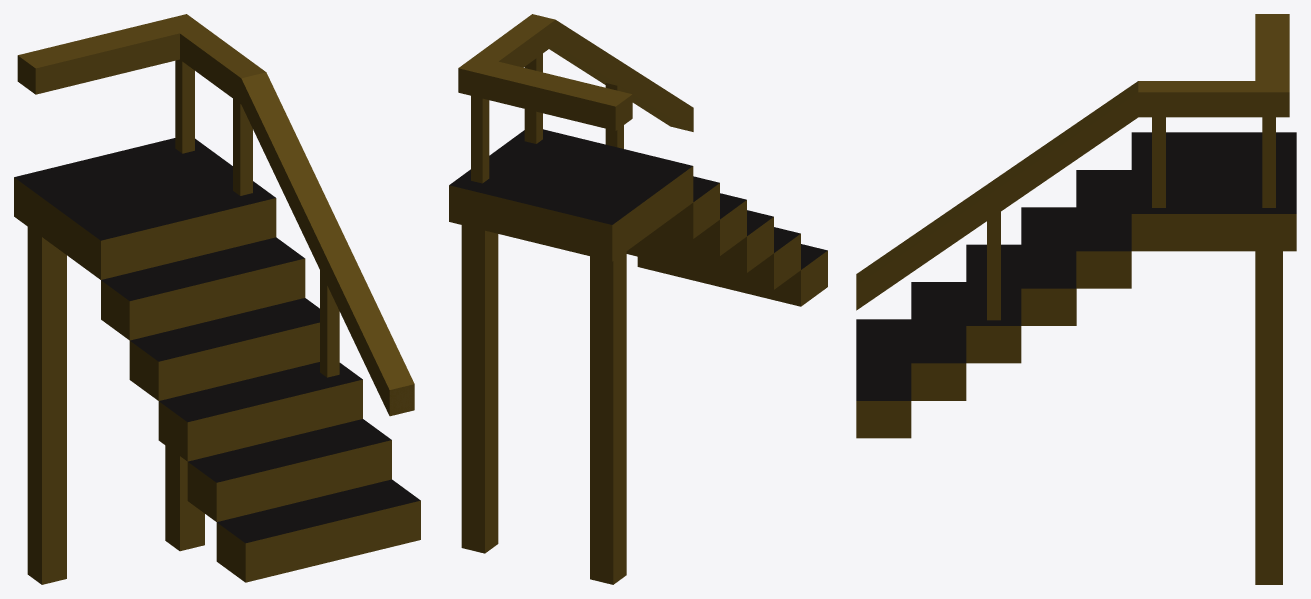
Rendered from obj_staircase_15_0.obj.
3 renders of one model, left to right at view 1: azimuth 30°, elevation 25°; view 2: azimuth 150°, elevation 25°; view 3: azimuth 270°, elevation 25°, orthographic. The views are drawn at different scales.
Size of the model in its own units: 0.875 by 2.47 by 2.
